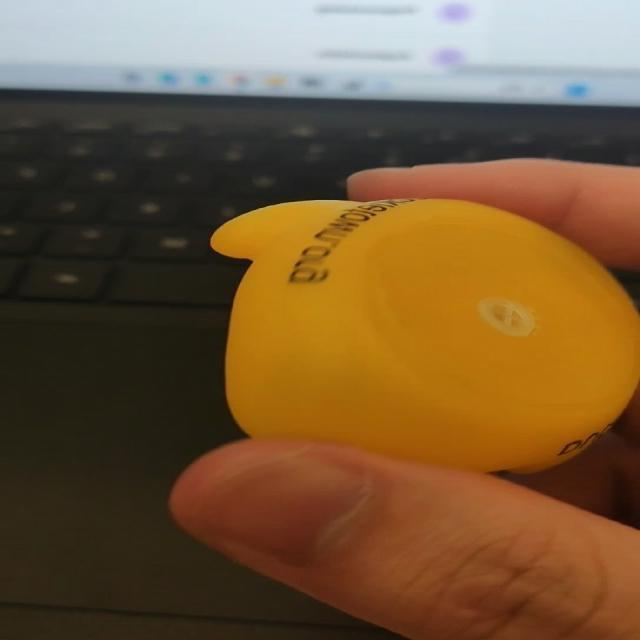rubber-duck: (210, 198, 638, 469)
